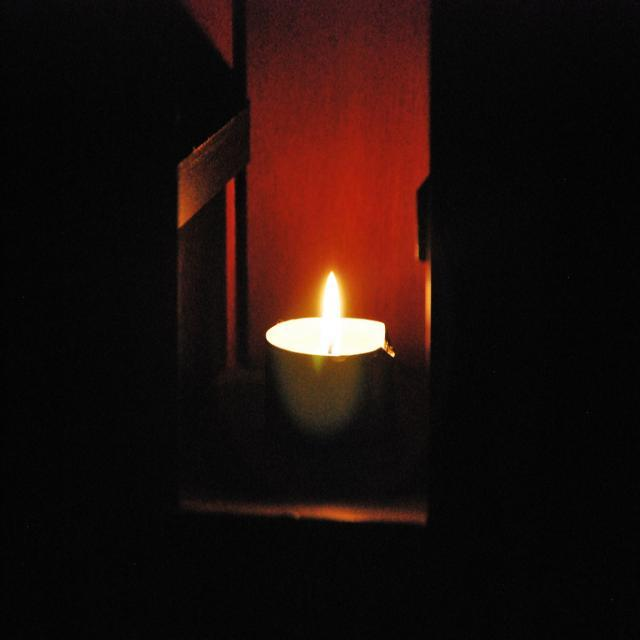Fire: (317, 272, 348, 342)
